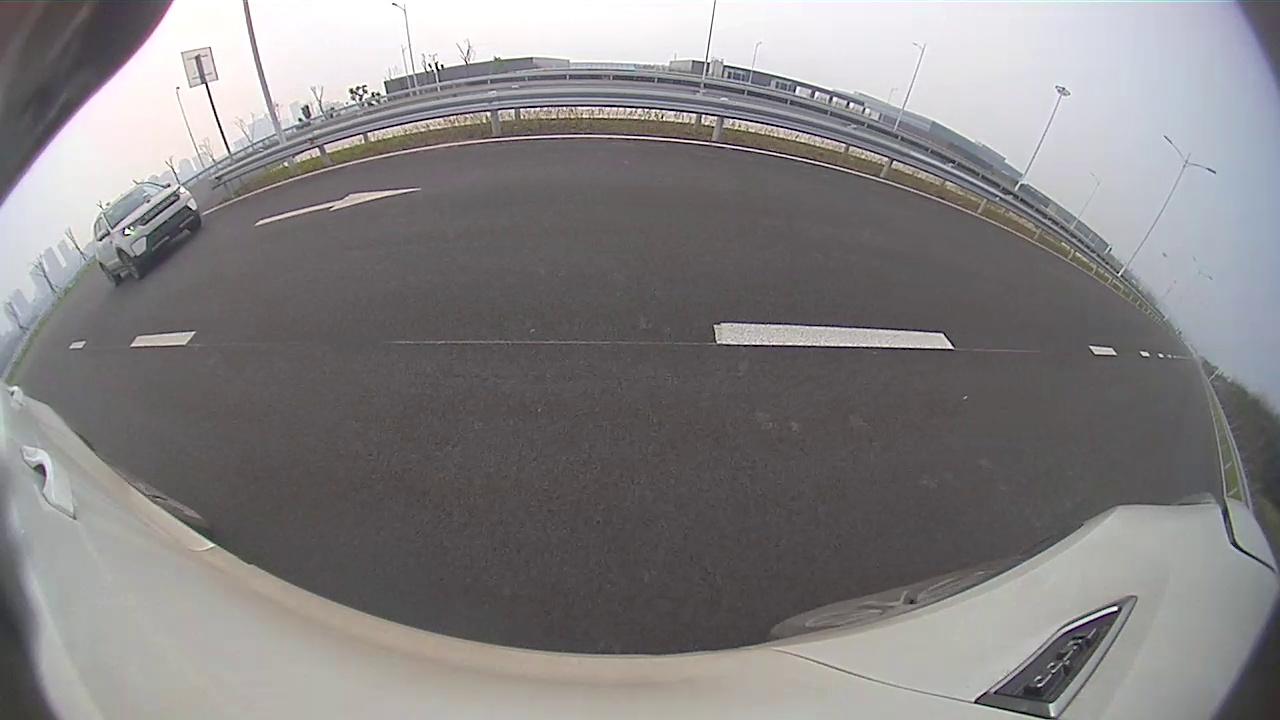car: (93, 182, 201, 286)
front: (117, 250, 146, 284)
